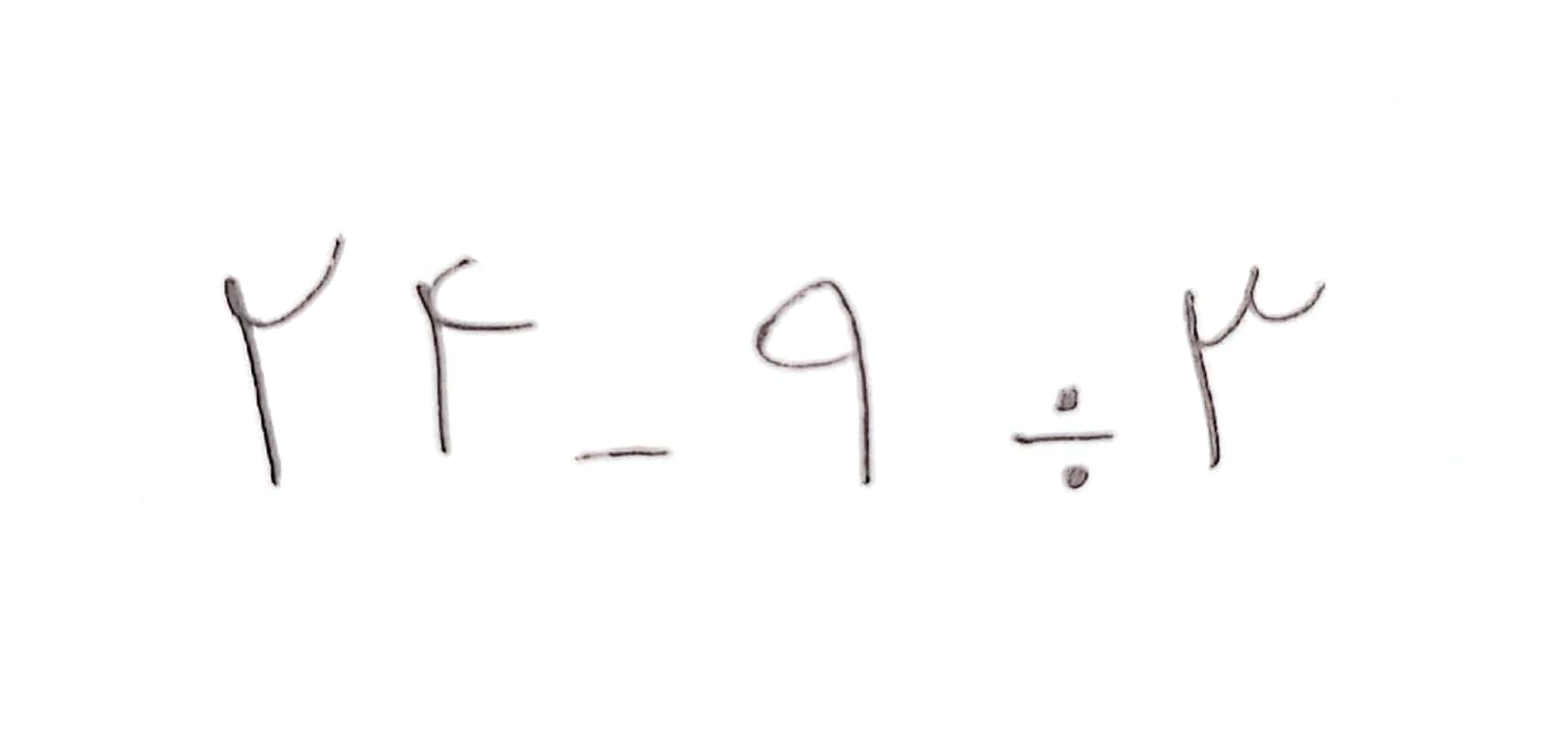character: (225, 236, 342, 486), (1184, 267, 1326, 468), (415, 256, 538, 453), (756, 280, 871, 486), (1014, 387, 1113, 489), (575, 446, 665, 464)
